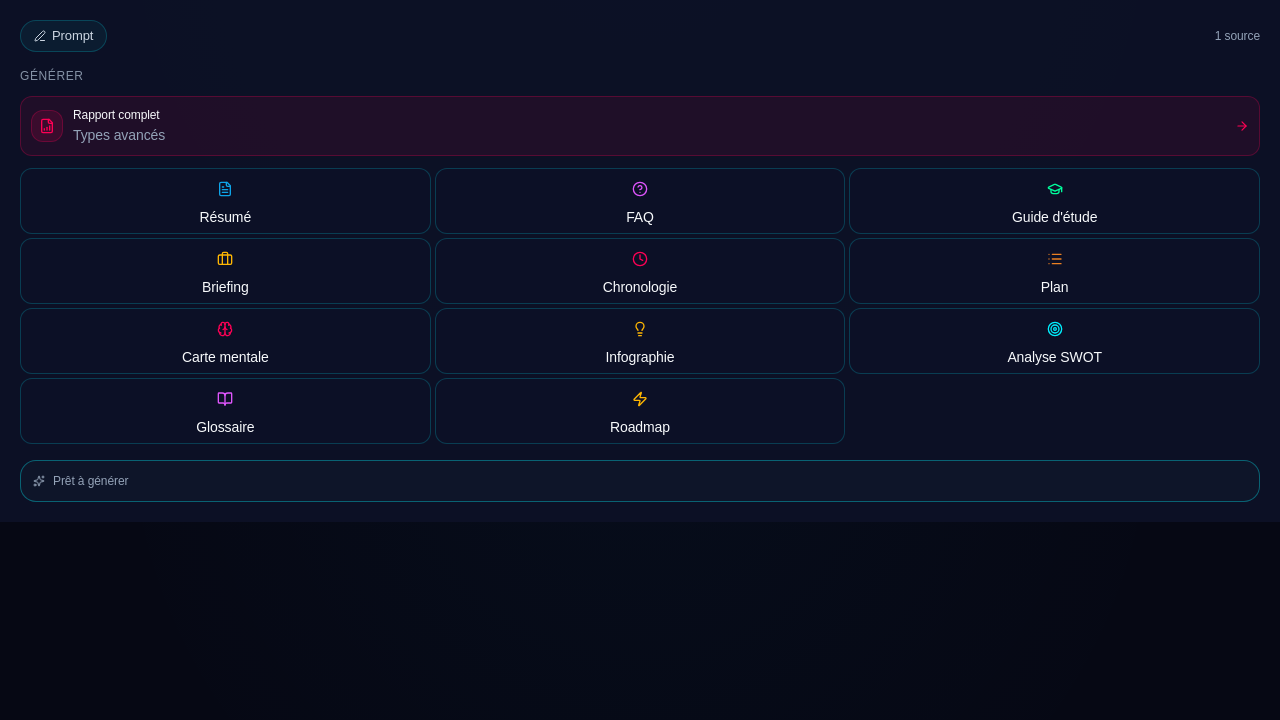
Test: GeneratePanel — génération de document (caractérisation) › lance une génération et finalise à réception du document
Click the button "Résumé" at (225, 216), box [20,168,431,234]
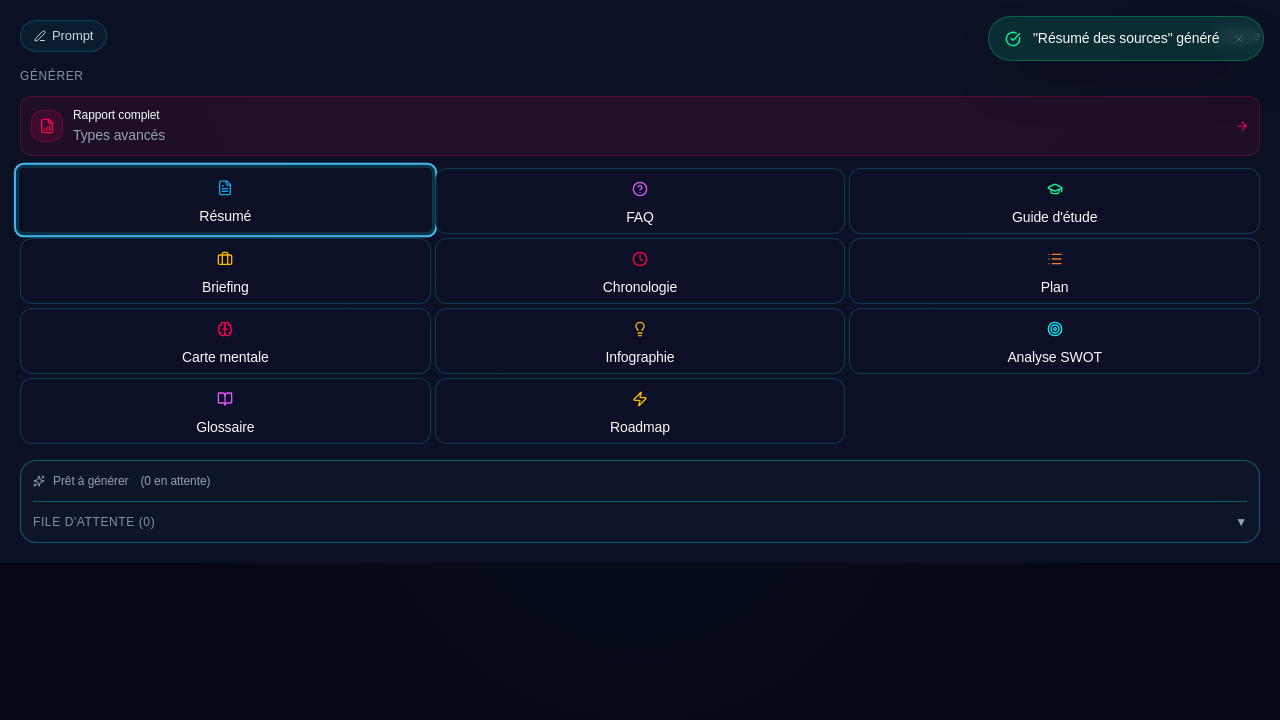
Expected: the text "\"Résumé des sources\" généré" is shown, [1033,29,1219,48]
